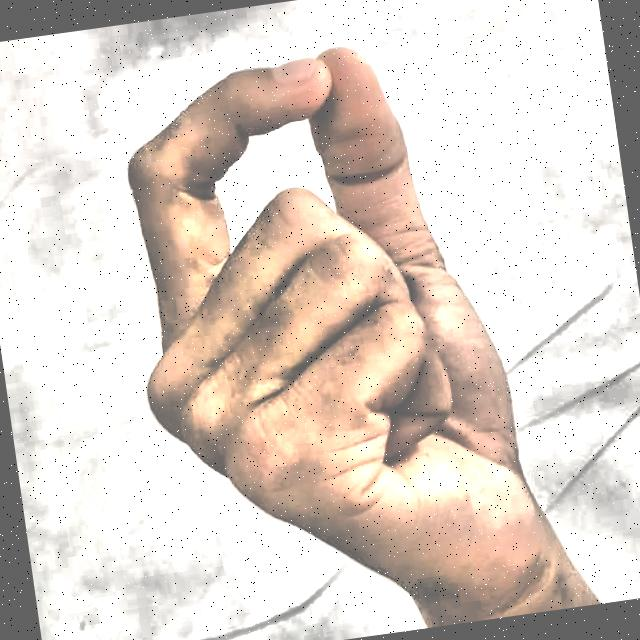Gha: (56, 0, 612, 640)
